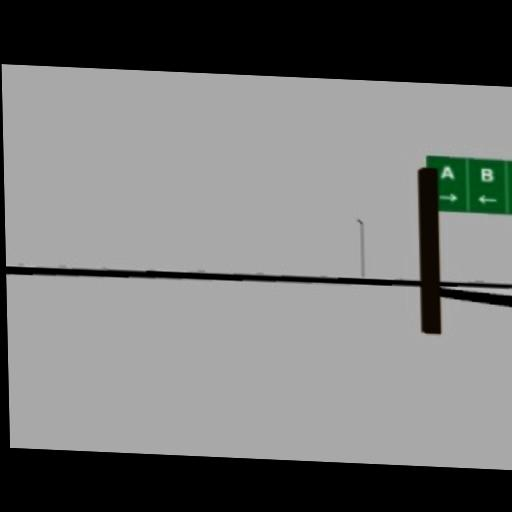A: (439, 163, 454, 180)
B: (480, 167, 493, 182)
Left: (475, 193, 499, 205)
Right: (438, 192, 458, 202)
